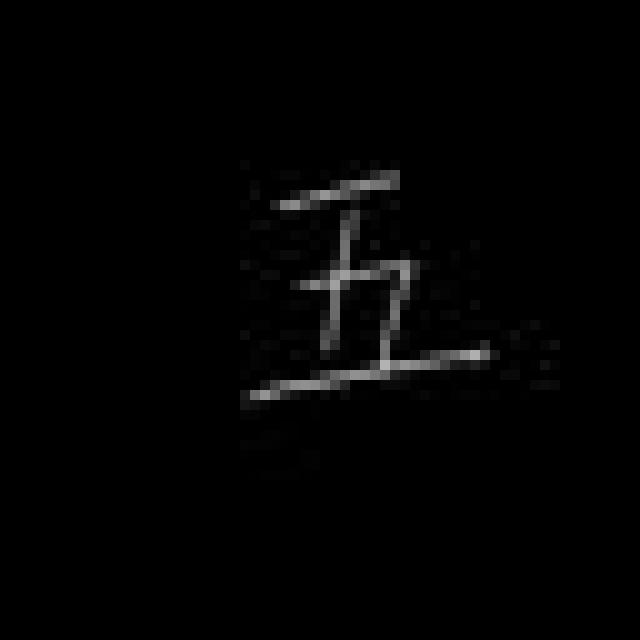5 -five-: (233, 157, 499, 419)
